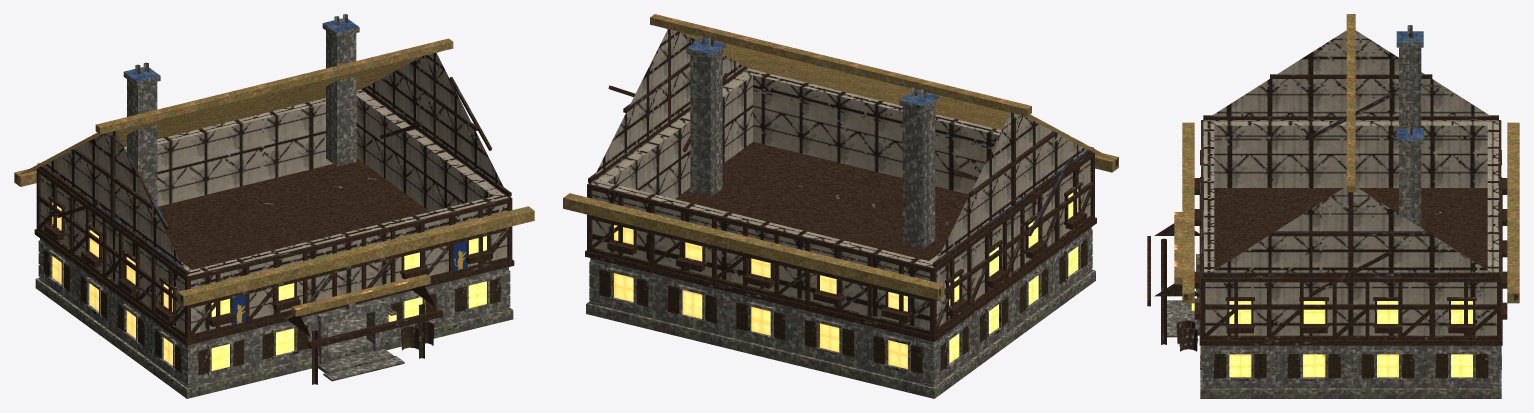
File: bld_farmhouse_card_lod1.glb
The picture shows the model from 3 angles, left to right: view 1: azimuth 30°, elevation 25°; view 2: azimuth 150°, elevation 25°; view 3: azimuth 270°, elevation 25°; orthographic projection. The views are drawn at different scales.
Parts seen in each view (by area): view 1: farmhouse_card; view 2: farmhouse_card; view 3: farmhouse_card.
Boxes of the visible parts, box(x1,y1,x2,y2) form: farmhouse_card: box(14, 14, 534, 398); farmhouse_card: box(563, 14, 1118, 398); farmhouse_card: box(1147, 14, 1519, 398).
Size of the model in its own units: 31.35 by 18.39 by 25.72.
1 material, 1 textured.
